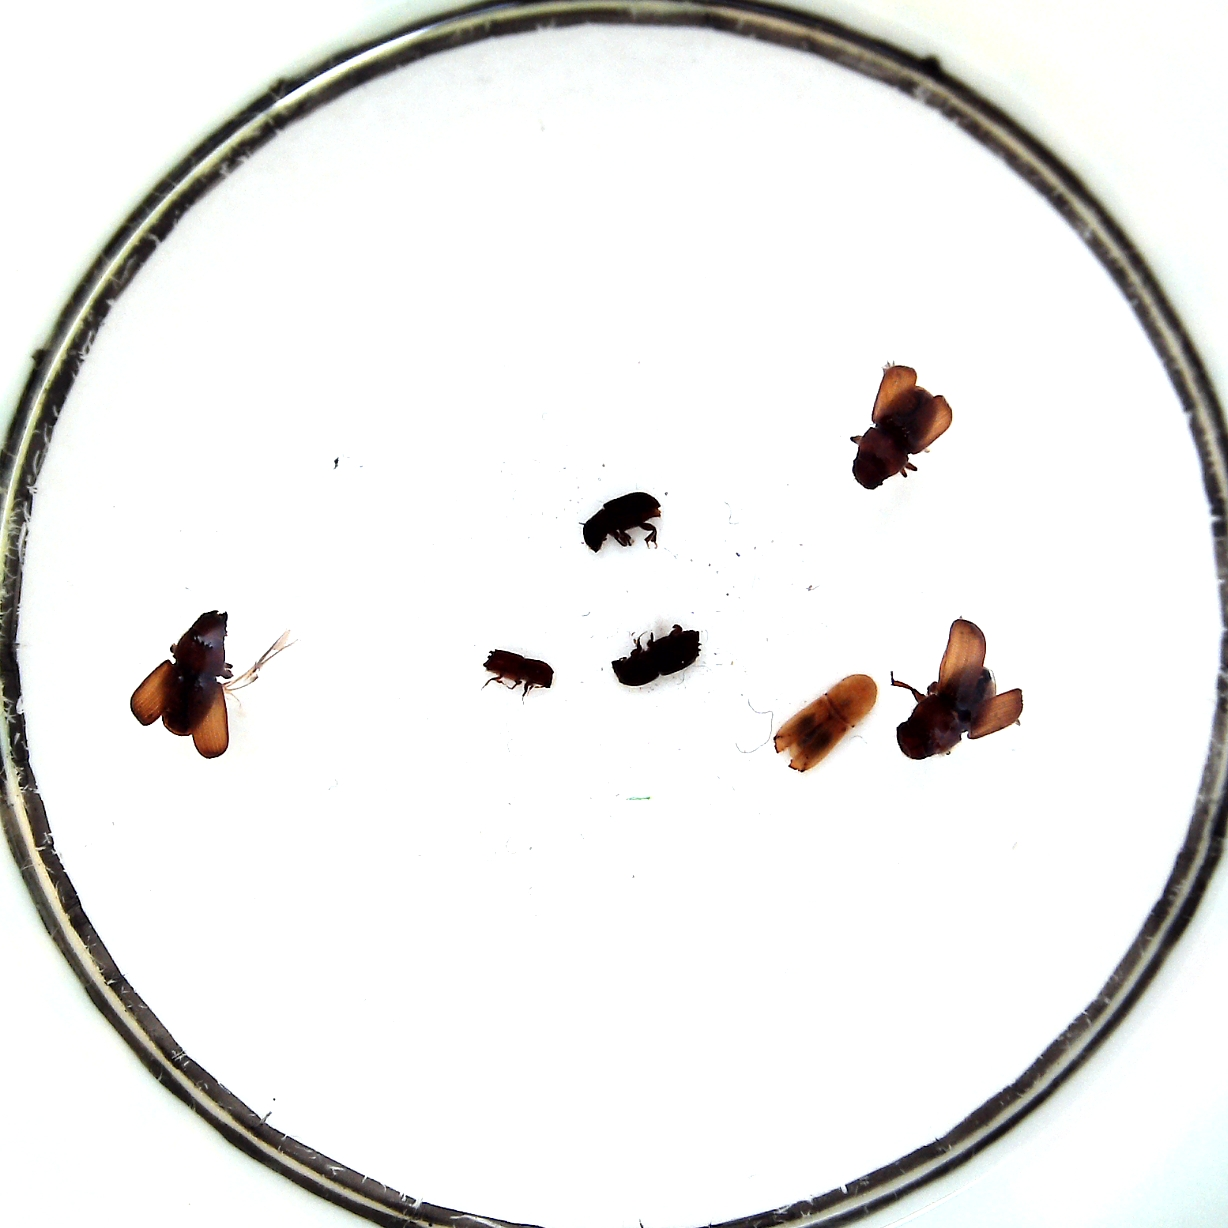Boerner: (773, 671, 883, 776)
Leconte: (890, 617, 1023, 761), (126, 607, 241, 758), (846, 361, 957, 494)
Linnaeus: (611, 625, 706, 689)
acuminatus: (480, 645, 554, 695)
armandi: (583, 490, 663, 556)
